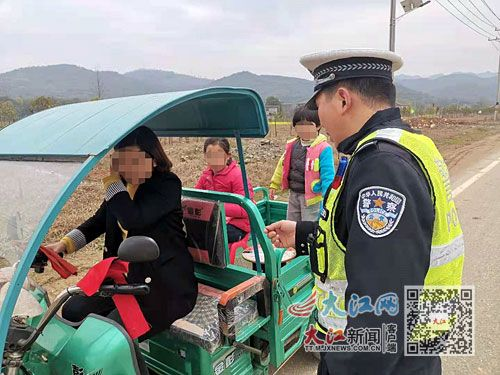driver: (41, 127, 195, 343)
overloading: (1, 99, 331, 375)
passenger: (194, 133, 262, 270), (267, 103, 331, 225)
